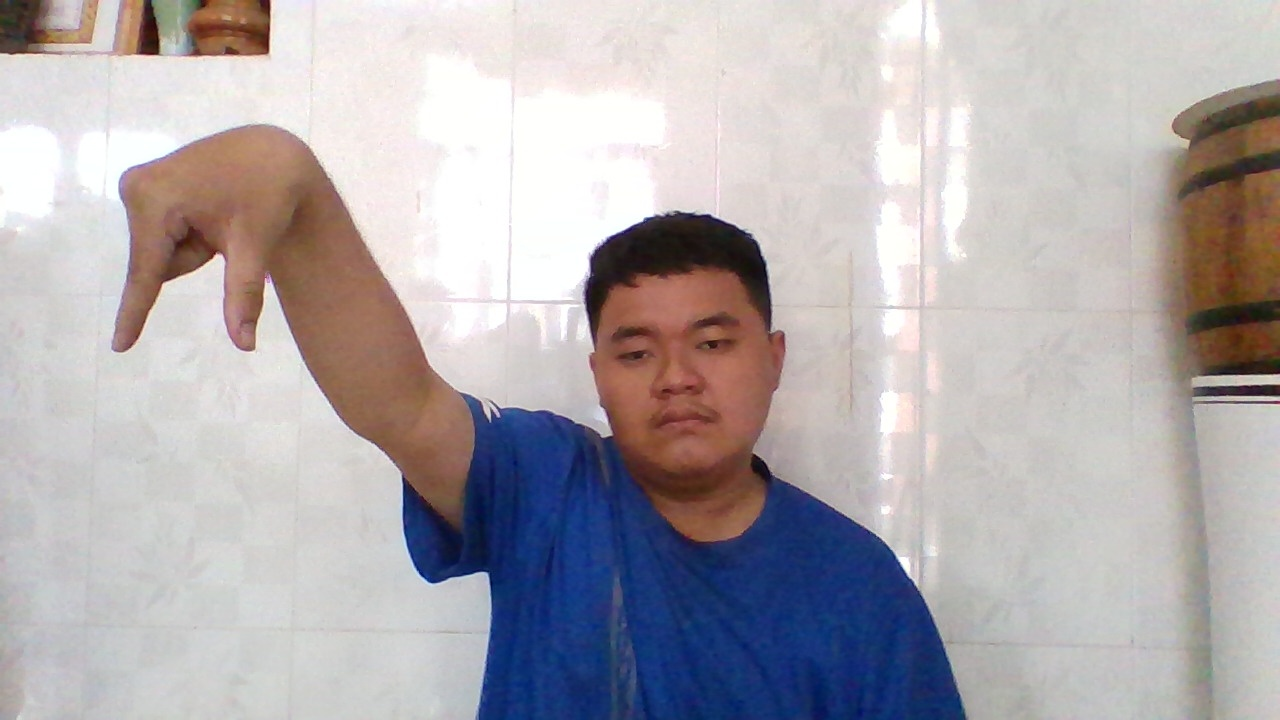Q: (103, 131, 291, 357)
